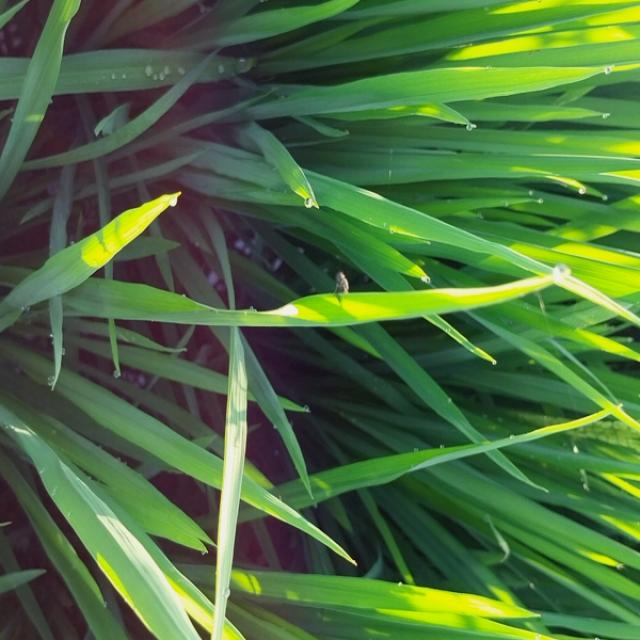healthy: (324, 258, 360, 308)
